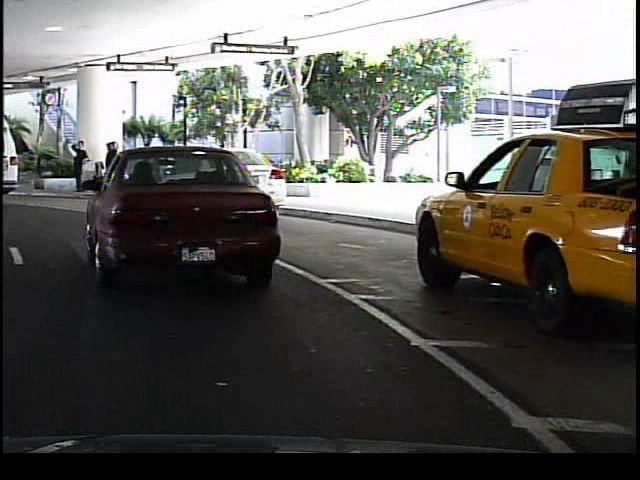person: (150, 145, 177, 197), (63, 139, 87, 196), (99, 140, 120, 189)
